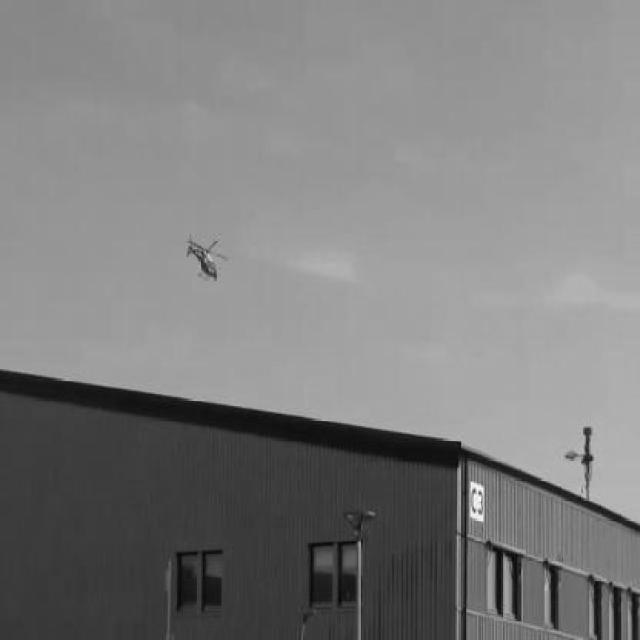helikopter: (179, 227, 233, 290)
